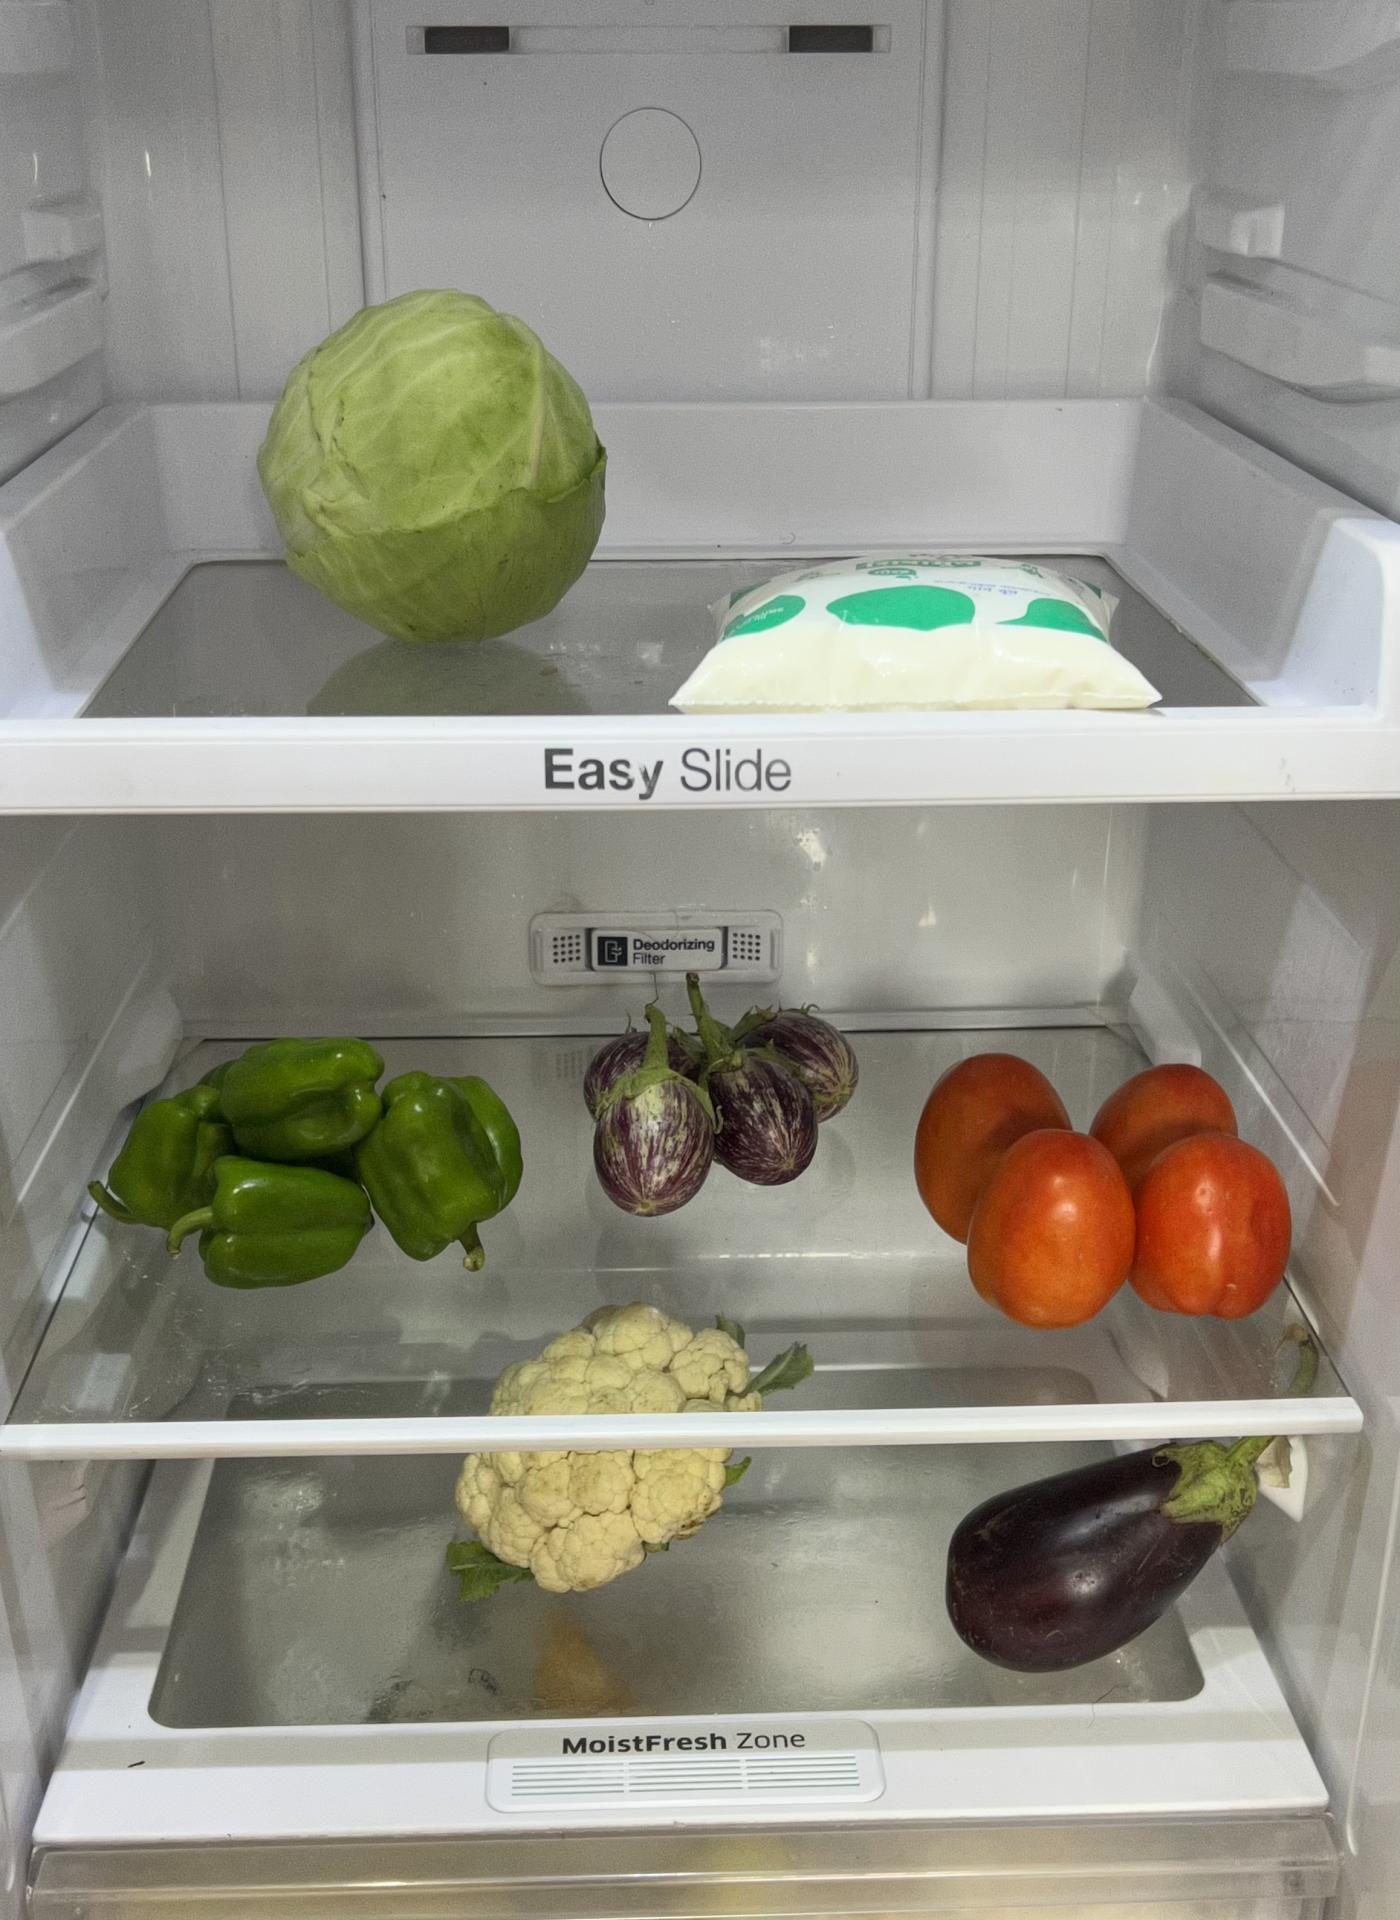cabbage: (252, 276, 610, 653)
capsicum: (110, 1033, 523, 1300)
cauliflower: (449, 1295, 768, 1592)
milk: (689, 547, 1153, 716)
tomato: (908, 1043, 1299, 1337)
